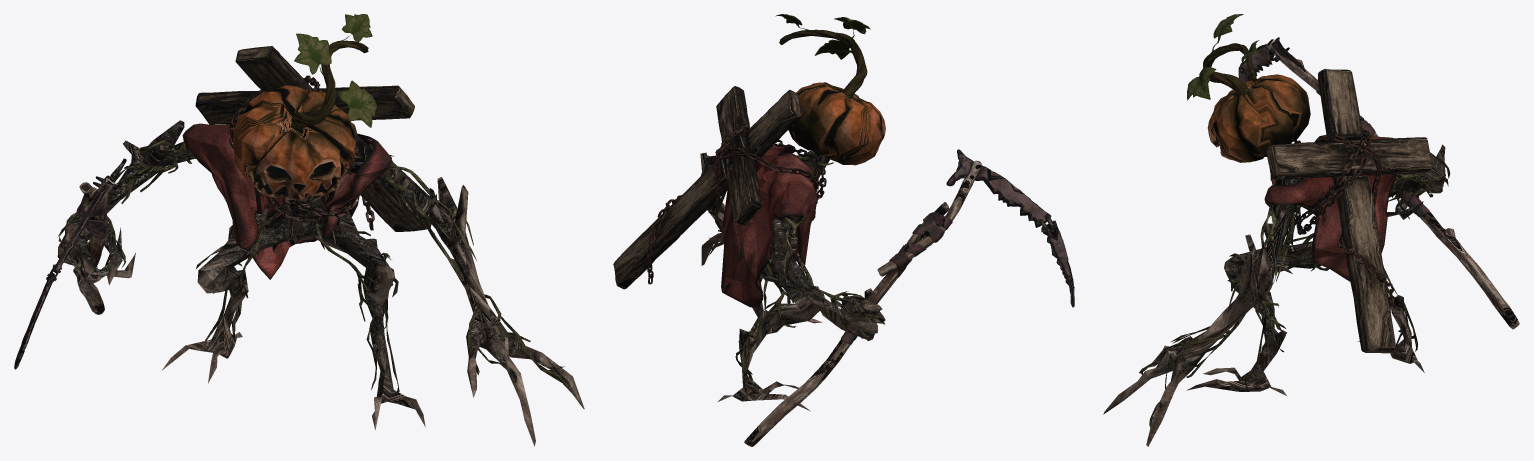
Rendered from reaper.glb.
The picture shows the model from 3 angles, left to right: view 1: azimuth 30°, elevation 25°; view 2: azimuth 150°, elevation 25°; view 3: azimuth 270°, elevation 25°; orthographic projection. The views are drawn at different scales.
Visible parts, largest first — view 1: Object_0, Object_10, Object_5, Object_6, Object_9, Object_15, Object_14, Object_8, Object_11, Object_2, Object_12, Object_3 (+6 smaller); view 2: Object_6, Object_15, Object_10, Object_0, Object_14, Object_5, Object_21, Object_17, Object_3, Object_9, Object_22, Object_12 (+5 smaller); view 3: Object_15, Object_0, Object_10, Object_14, Object_6, Object_5, Object_3, Object_9, Object_21, Object_8, Object_12, Object_11 (+4 smaller).
Part boxes in pixels (<box>): Object_0: <box>57,120,584,446</box>; Object_10: <box>233,85,355,201</box>; Object_5: <box>162,205,425,430</box>; Object_6: <box>182,123,391,279</box>; Object_9: <box>57,140,572,393</box>; Object_15: <box>235,46,431,231</box>; Object_14: <box>195,85,414,124</box>; Object_8: <box>196,133,434,392</box>; Object_11: <box>294,14,376,127</box>; Object_2: <box>212,137,372,279</box>; Object_12: <box>291,40,368,130</box>; Object_3: <box>227,78,374,230</box>; Object_6: <box>721,145,817,307</box>; Object_15: <box>613,90,801,289</box>; Object_10: <box>788,82,885,165</box>; Object_0: <box>700,152,885,340</box>; Object_14: <box>716,86,761,226</box>; Object_5: <box>718,260,824,411</box>; Object_21: <box>744,202,949,446</box>; Object_17: <box>946,149,1051,227</box>; Object_3: <box>645,127,824,284</box>; Object_9: <box>708,150,884,338</box>; Object_22: <box>841,212,952,344</box>; Object_12: <box>779,29,867,98</box>; Object_15: <box>1318,69,1396,353</box>; Object_0: <box>1103,144,1445,446</box>; Object_10: <box>1207,74,1310,162</box>; Object_14: <box>1266,137,1432,179</box>; Object_6: <box>1264,135,1397,281</box>; Object_5: <box>1186,241,1424,395</box>; Object_3: <box>1288,130,1394,307</box>; Object_9: <box>1139,143,1450,427</box>; Object_21: <box>1318,68,1519,329</box>; Object_8: <box>1227,178,1417,390</box>; Object_12: <box>1203,43,1256,95</box>; Object_11: <box>1187,14,1259,100</box>.
Size of the model in its own units: 3.44 by 2.55 by 2.85.
14 materials, 14 textured.
